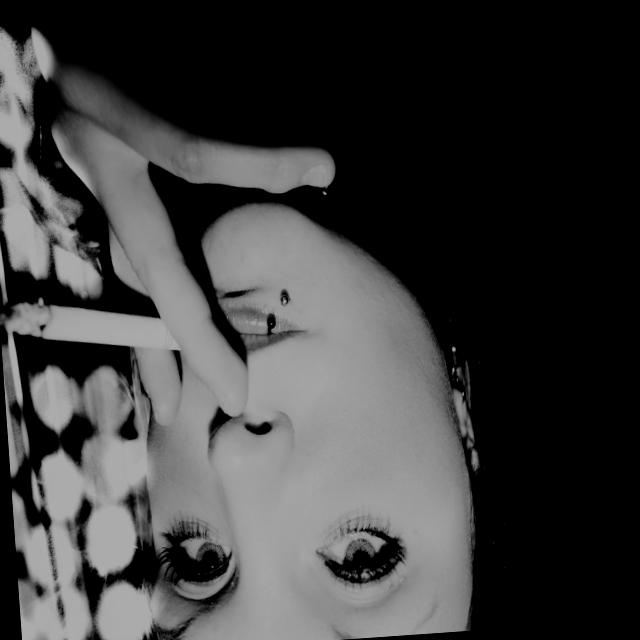cigarette: (14, 260, 183, 356)
